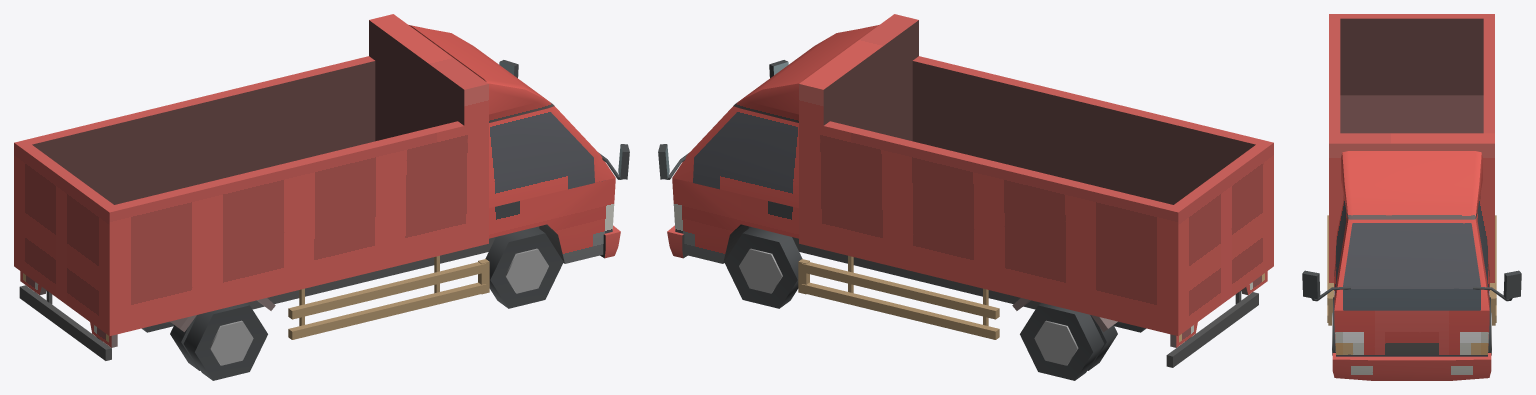
File: Universal_Building_Mine_L1_01_Mod.fbx
The picture shows the model from 3 angles, left to right: view 1: azimuth 30°, elevation 25°; view 2: azimuth 150°, elevation 25°; view 3: azimuth 270°, elevation 25°; orthographic projection. The views are drawn at different scales.
Visible parts, largest first — view 1: Universal_Building_Mine_L1_01_Mod, Universal_Building_Mine_L1_FrontWheel_01_Mod; view 2: Universal_Building_Mine_L1_01_Mod, Universal_Building_Mine_L1_FrontWheel_02_Mod; view 3: Universal_Building_Mine_L1_01_Mod.
Part boxes in pixels (left/top/right/bottom): Universal_Building_Mine_L1_01_Mod: left=14, top=14, right=629, bottom=380; Universal_Building_Mine_L1_FrontWheel_01_Mod: left=485, top=227, right=563, bottom=308; Universal_Building_Mine_L1_01_Mod: left=658, top=14, right=1273, bottom=380; Universal_Building_Mine_L1_FrontWheel_02_Mod: left=724, top=227, right=802, bottom=308; Universal_Building_Mine_L1_01_Mod: left=1302, top=14, right=1521, bottom=380.
Bounding box in the file's own units: 636 × 274 × 269.
